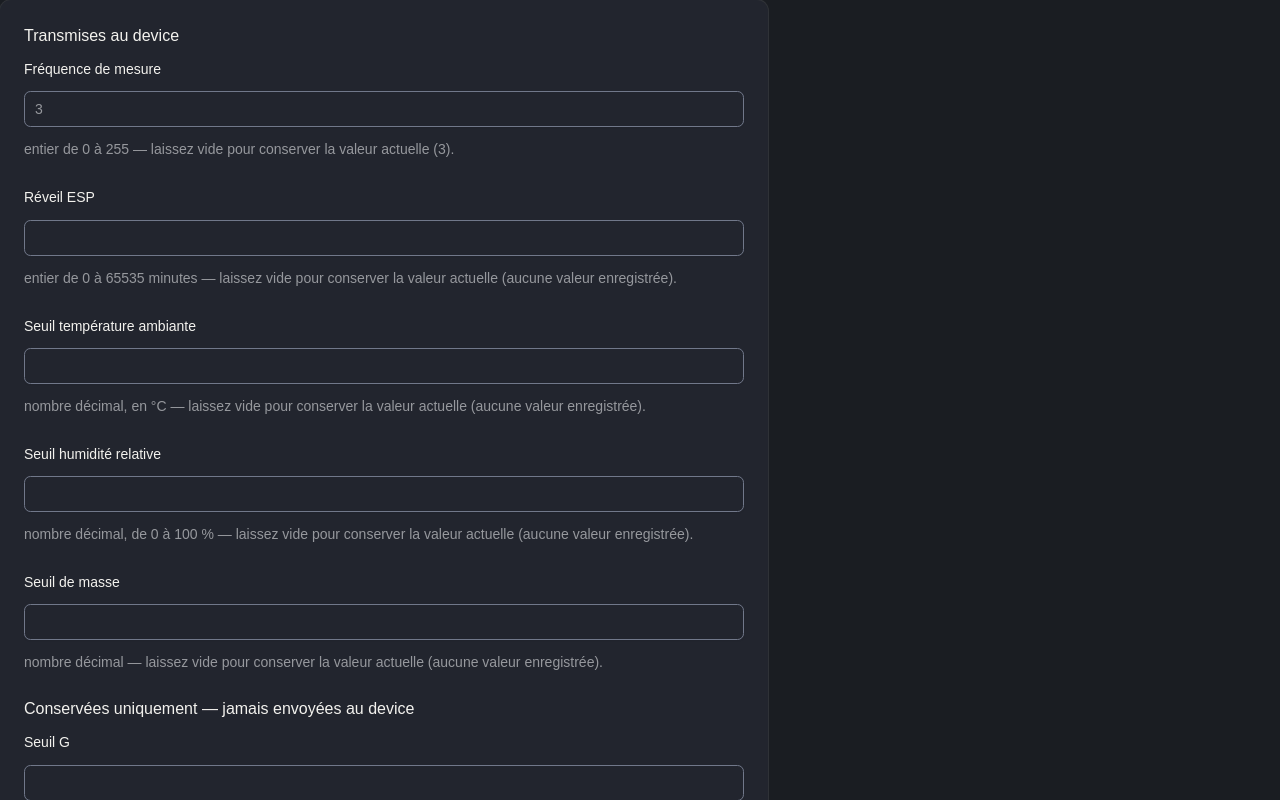
Test: SettingsForm submit (KAN-166 FR11, FR13, FR20) › on a 409 contract_inactive, shows the API message verbatim and does not refresh the config (FR11)
Type "10" into the field with test id "settings-field-FREQ_MESURE_CL".
click(384, 109); type("10")  # box x1=24 y1=91 x2=744 y2=127
(page scrolled)
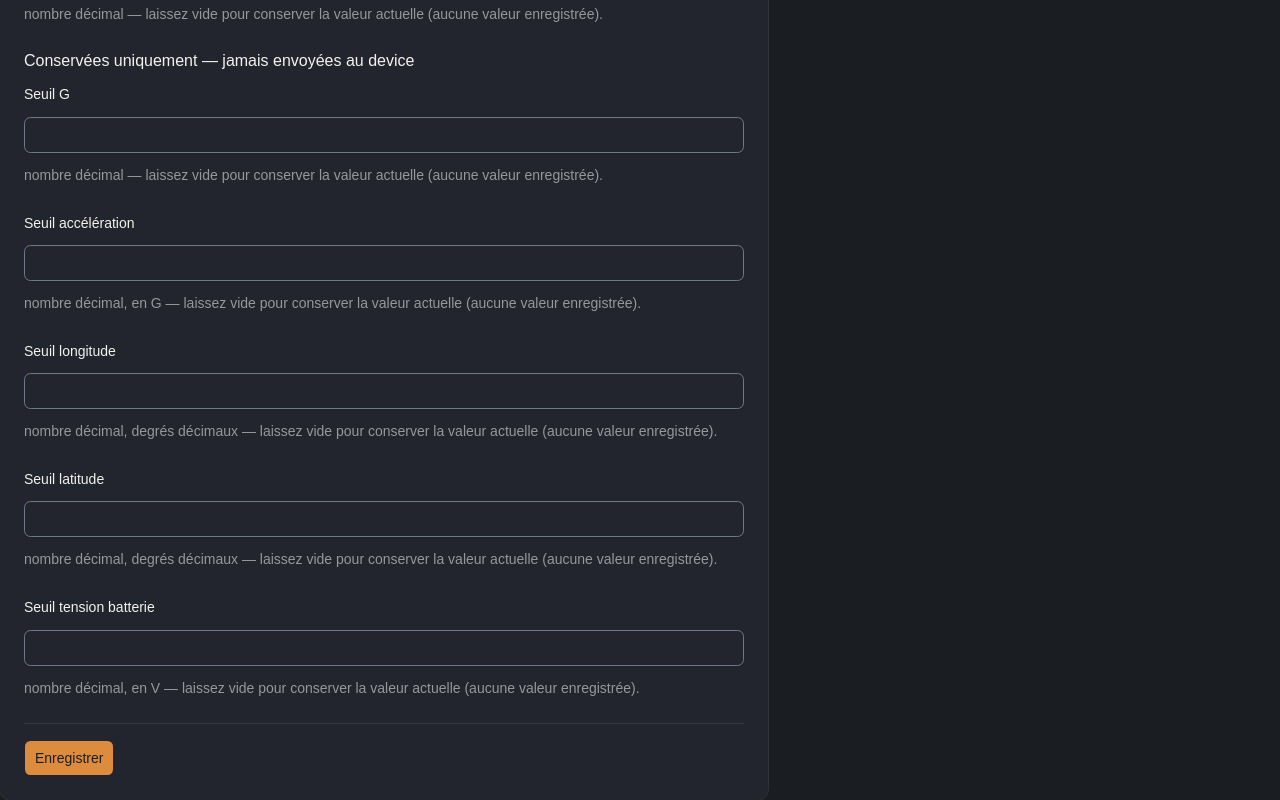
Click the button with test id "settings-form-submit".
click(69, 758)  # box x1=24 y1=740 x2=114 y2=776
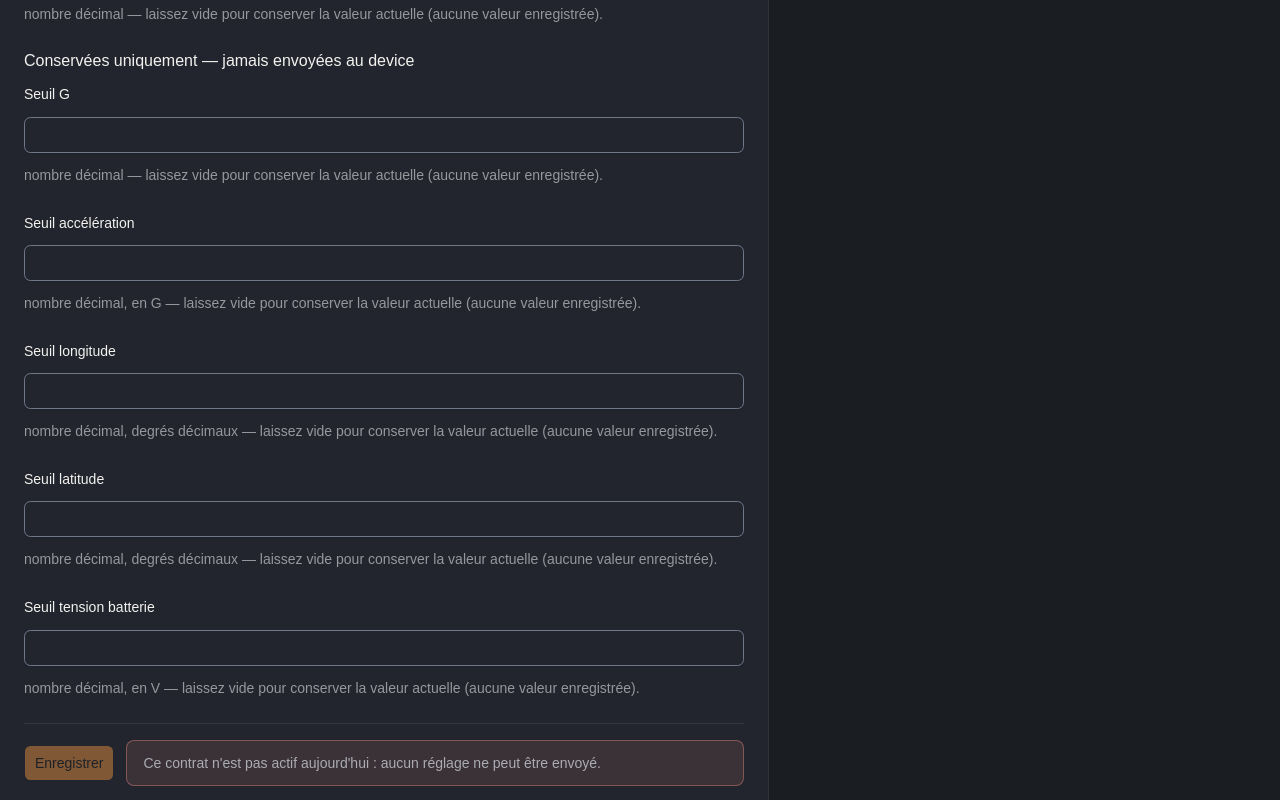
Now the message with test id "settings-form-flash" shows "Ce contrat n'est pas actif aujourd'hui", box x1=144 y1=754 x2=601 y2=770
Now the button with test id "settings-form-submit" is disabled, box x1=24 y1=744 x2=114 y2=780
